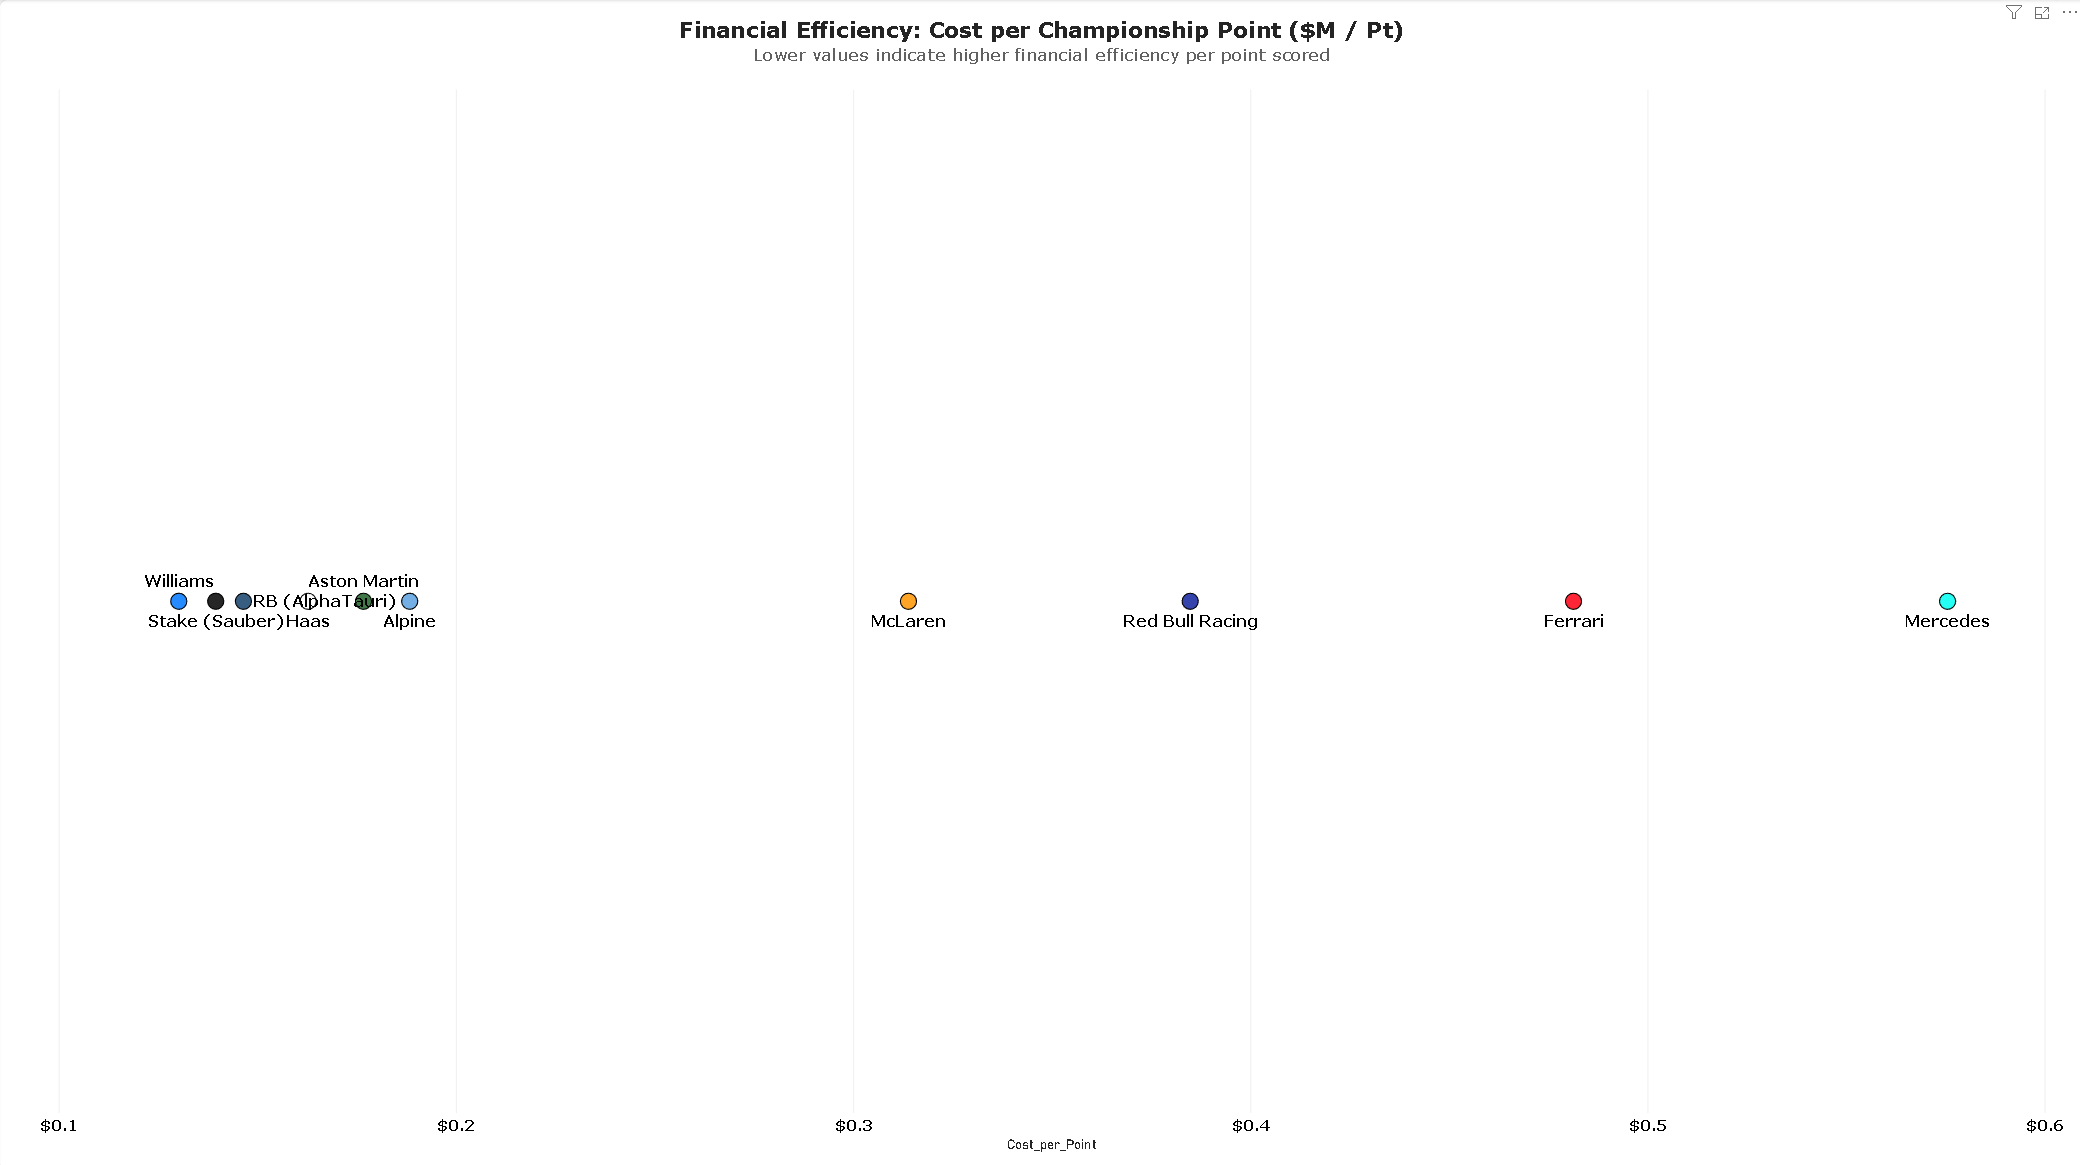

What the dashboard file says about the page in this screenshot:
{"tool":"powerbi","page":{"name":"Page 3","canvas":[1920,1080],"ordinal":1},"visuals":[{"type":"barChart","title":"Financial Efficiency: Cost per Championship Point ($M / Pt)","fields":{"Category":["constructor_finances.team_name"],"Y":["constructor_finances.Cost_per_Point"]},"box":[0,0,1920,1080],"z":0}]}

Visuals, with their boxes in screenshot pixels (x1, y1, x2, y2), scaled from the page's 1920x1080 canvas onto the 2080x1165 screenshot:
"Financial Efficiency: Cost per Championship Point ($M / Pt)" barChart: <box>0,0,2079,1164</box>
